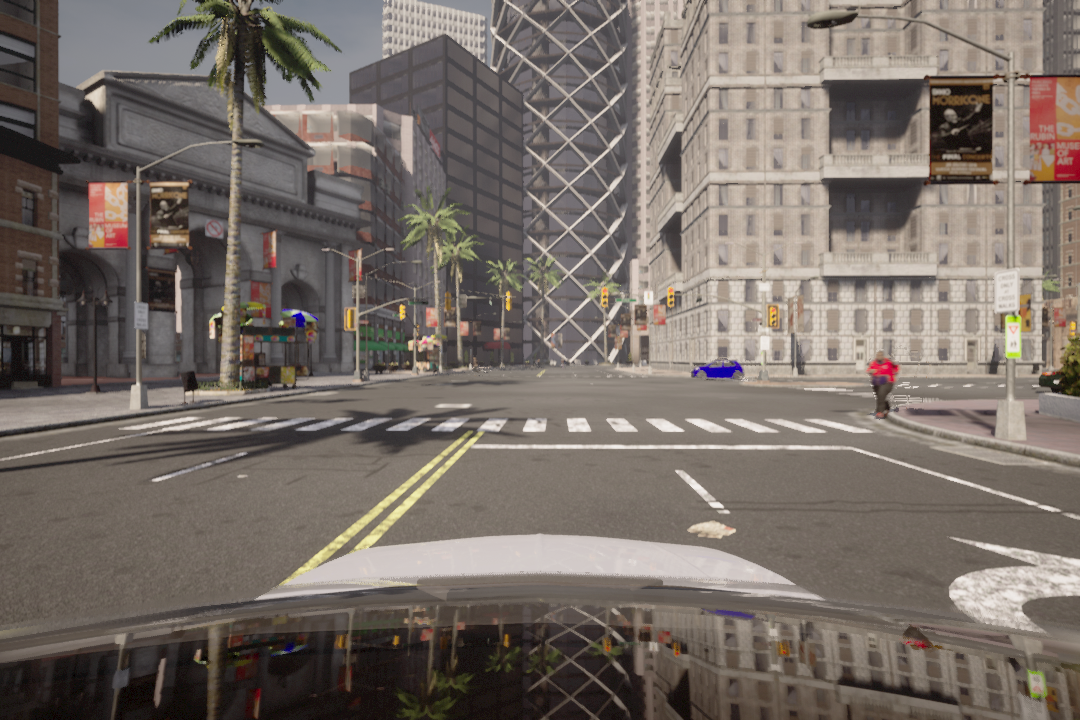TrafficLight: (601, 284, 611, 310), (667, 285, 677, 311), (767, 308, 779, 328)
TrafficSign: (207, 219, 225, 238)
walkside: (124, 414, 889, 436)
